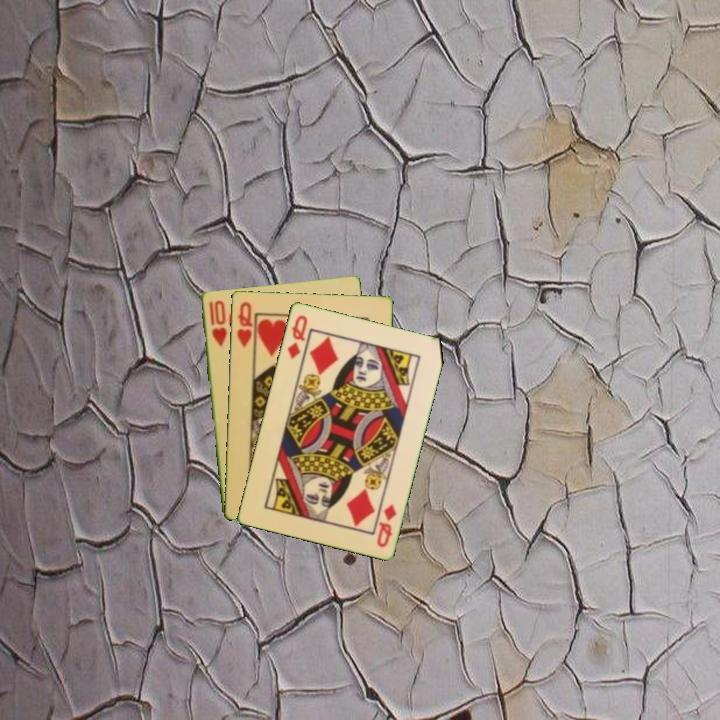10h: (205, 297, 229, 349)
Qd: (283, 311, 310, 361), (373, 500, 400, 550)
Qh: (233, 298, 255, 350)
